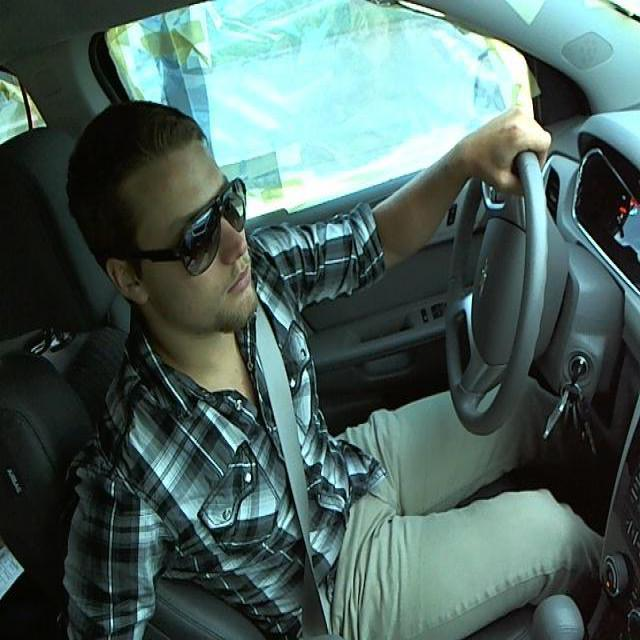seatbelt: (253, 333, 352, 619)
